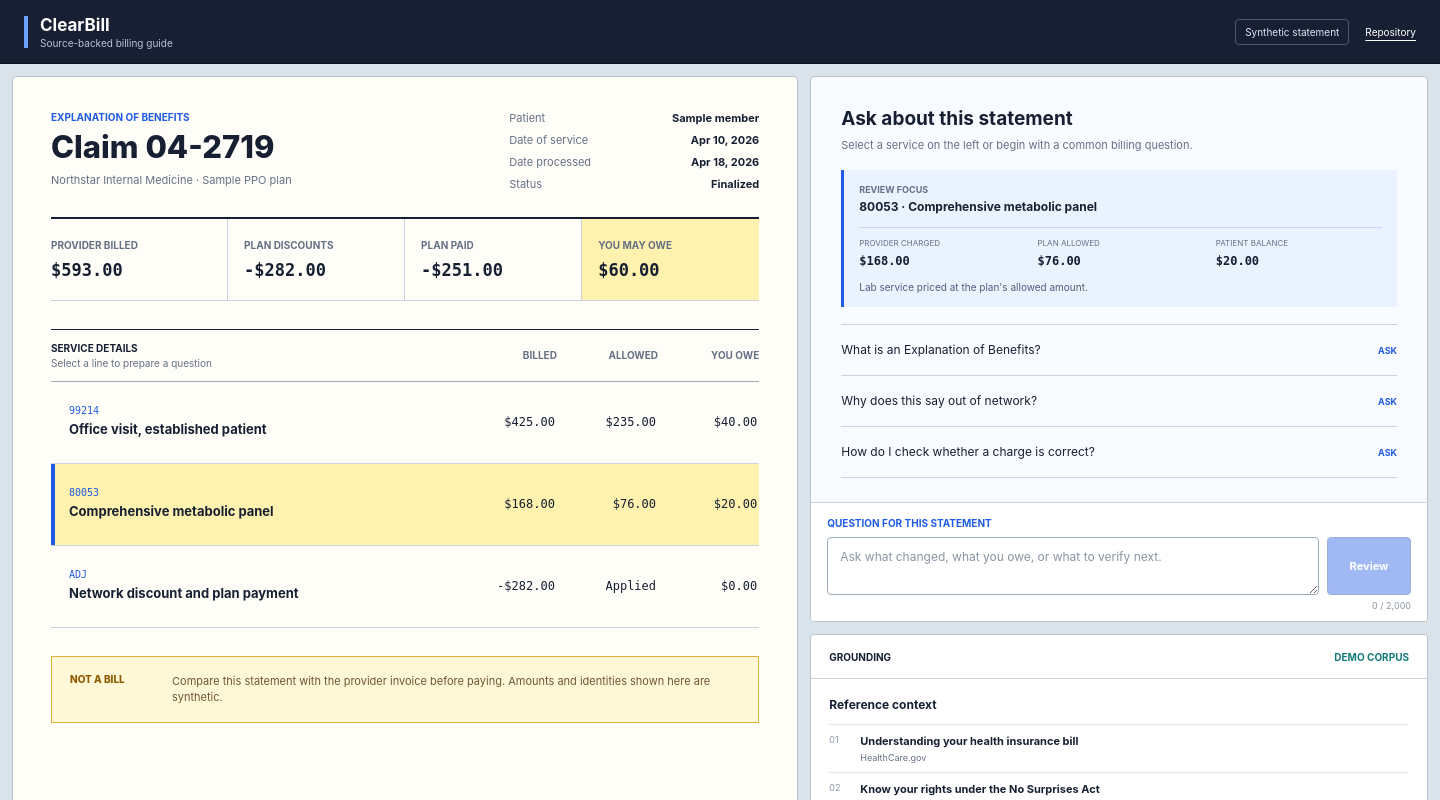
Scenario: ClearBill workspace › answers a suggested question in labeled demo mode
The image size is (1440, 800).
Click the button "What is an Explanation of Benefits? Ask": (941, 349) [841, 325, 1397, 376]
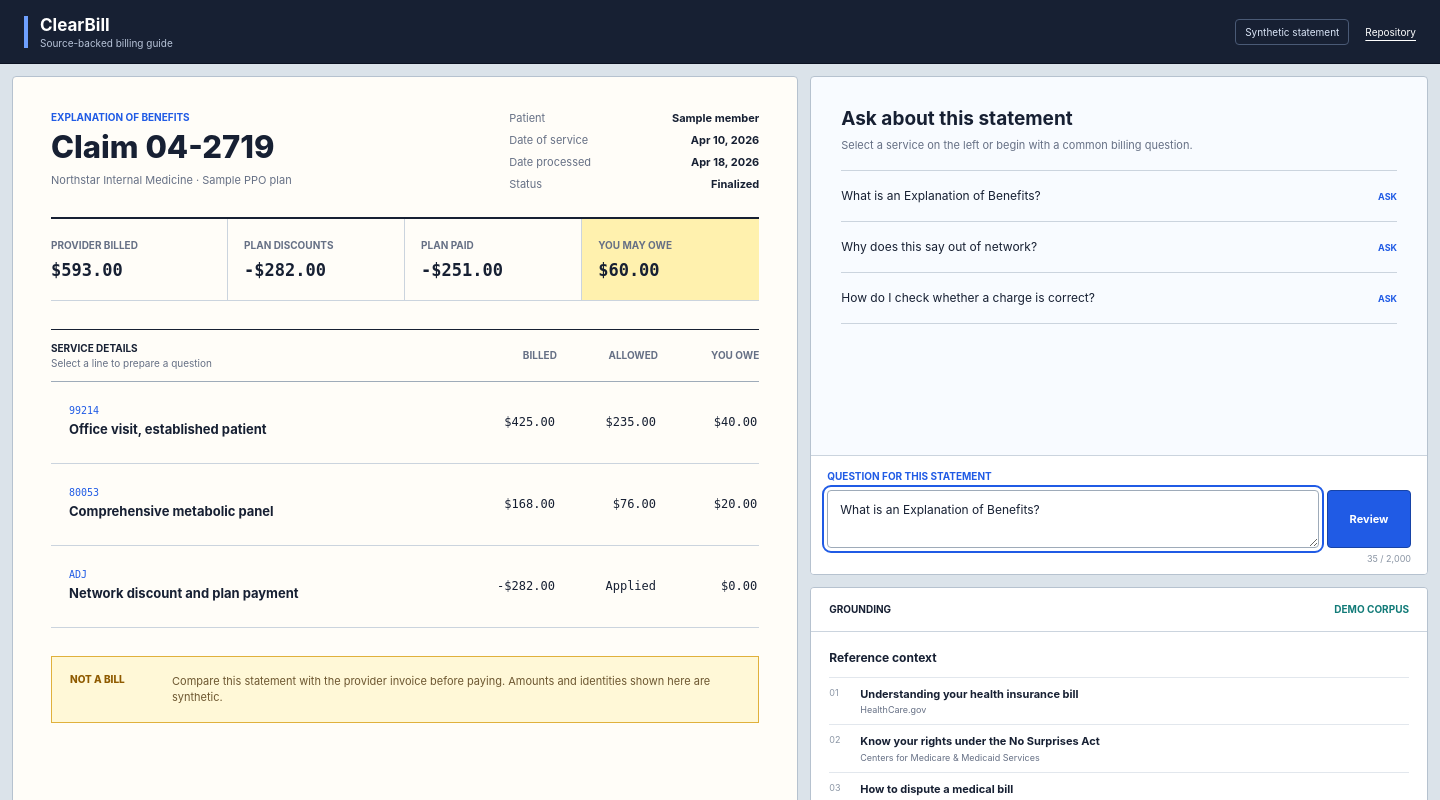
Check: the text box labelled "Question for this statement" holds "What is an Explanation of Benefits?", box [827, 490, 1319, 548]
Click the button "Review": (1369, 518) [1327, 490, 1411, 548]
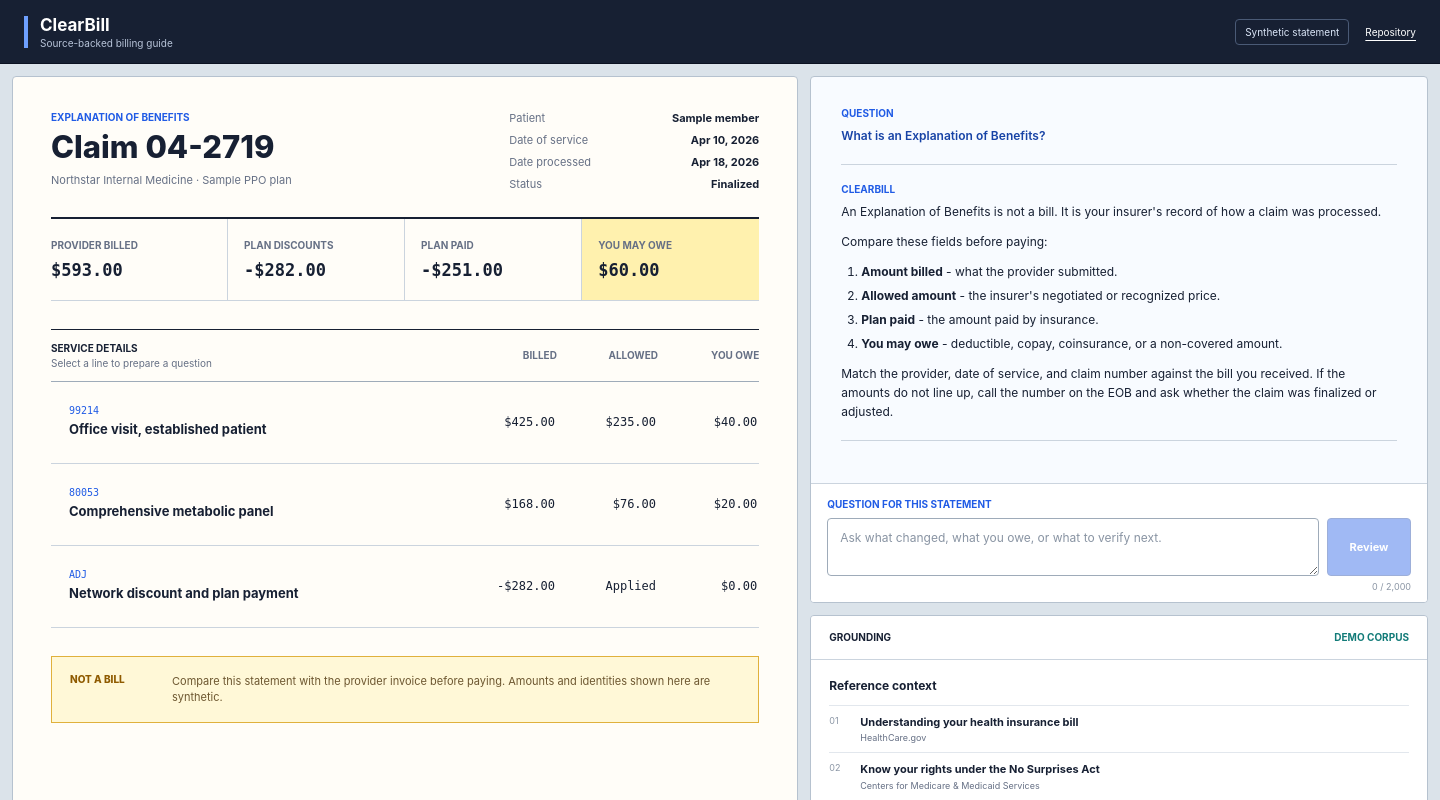
Check: the text "Demo corpus" is shown, box [1334, 631, 1409, 643]
Check: the text "An Explanation of Benefits is not a bill" is shown, box [841, 204, 1381, 219]
